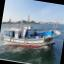fishing boat: (0, 10, 63, 53)
